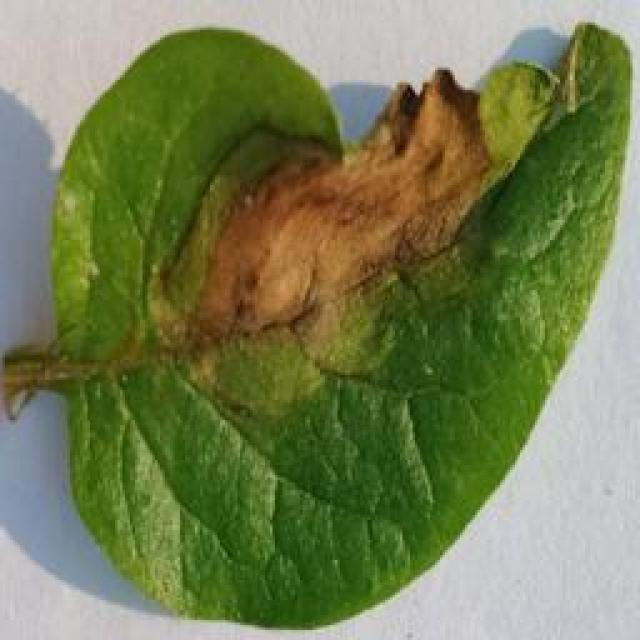Potato_Late_Blight: (14, 25, 624, 626)
